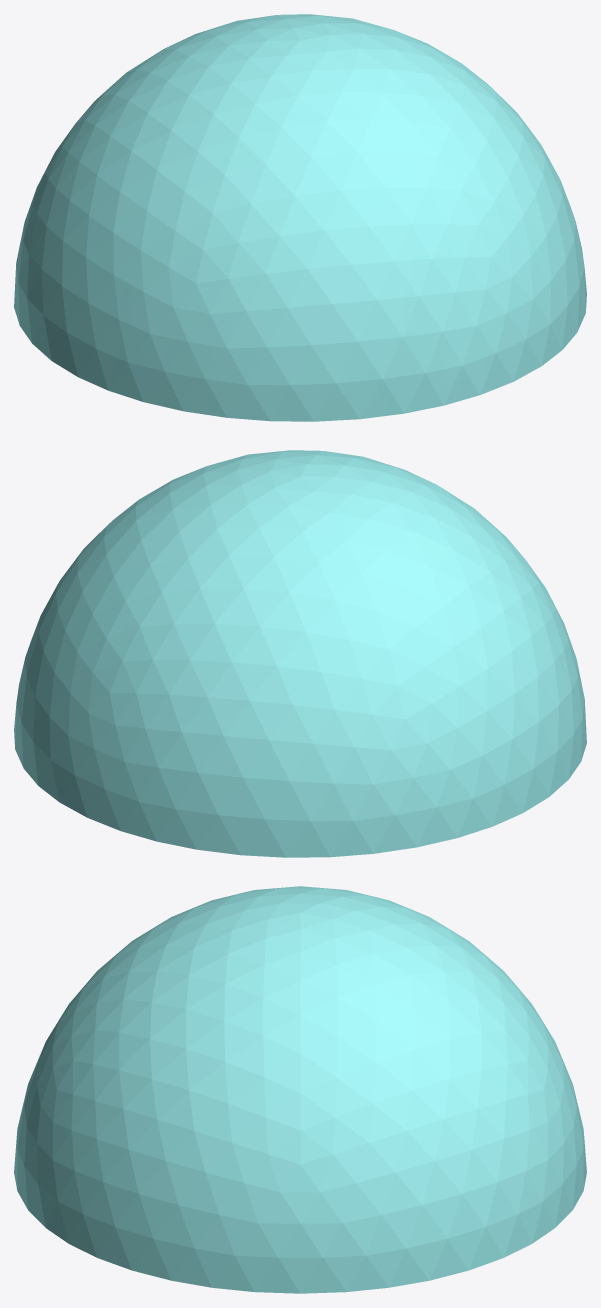
File: VidrioAviario.obj
3 renders of one model, top to bottom at view 1: azimuth 30°, elevation 25°; view 2: azimuth 150°, elevation 25°; view 3: azimuth 270°, elevation 25°, orthographic.
Parts seen in each view (by area): view 1: Icosphere; view 2: Icosphere; view 3: Icosphere.
Boxes of the visible parts, bbox=[...] form: Icosphere: bbox=[14, 14, 586, 421]; Icosphere: bbox=[14, 450, 586, 857]; Icosphere: bbox=[14, 886, 586, 1293].
Bounding box in the file's own units: 25.62 × 12.81 × 25.62.
